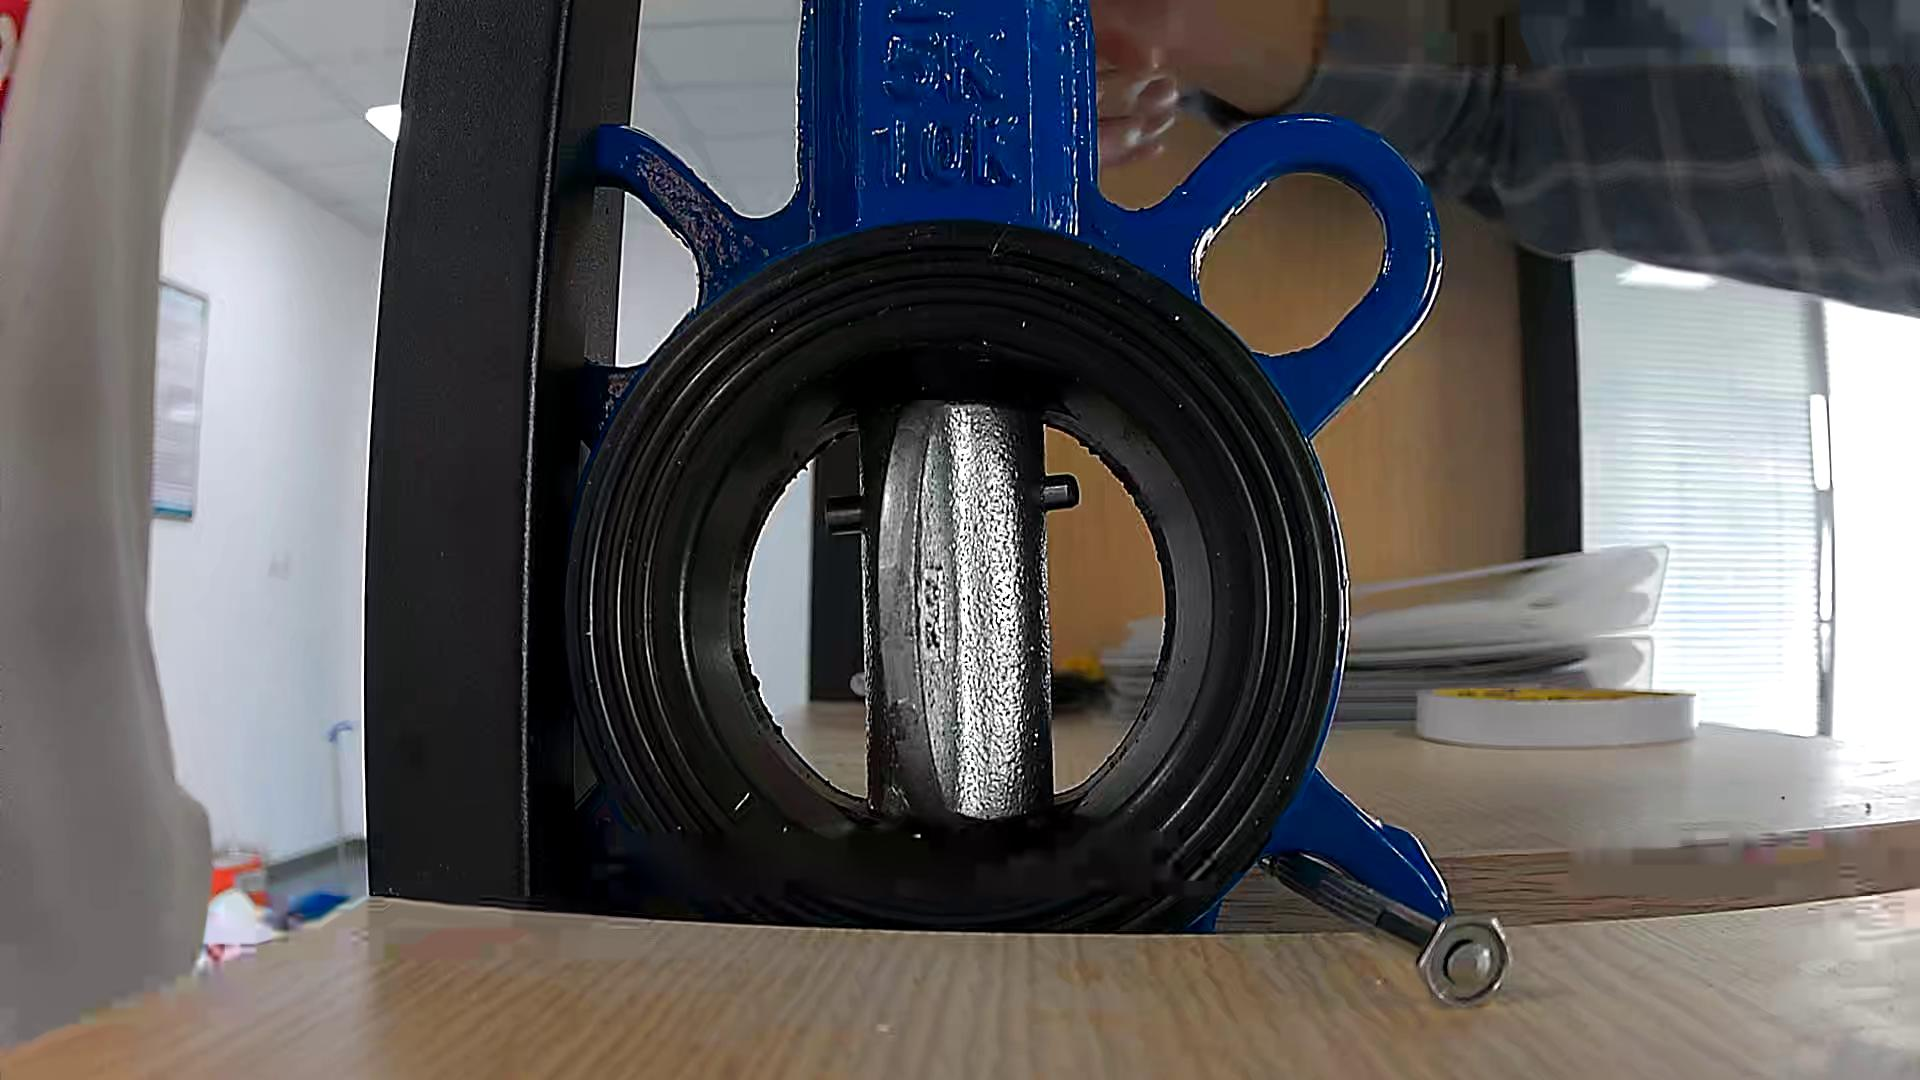valve: (828, 401, 1079, 822)
